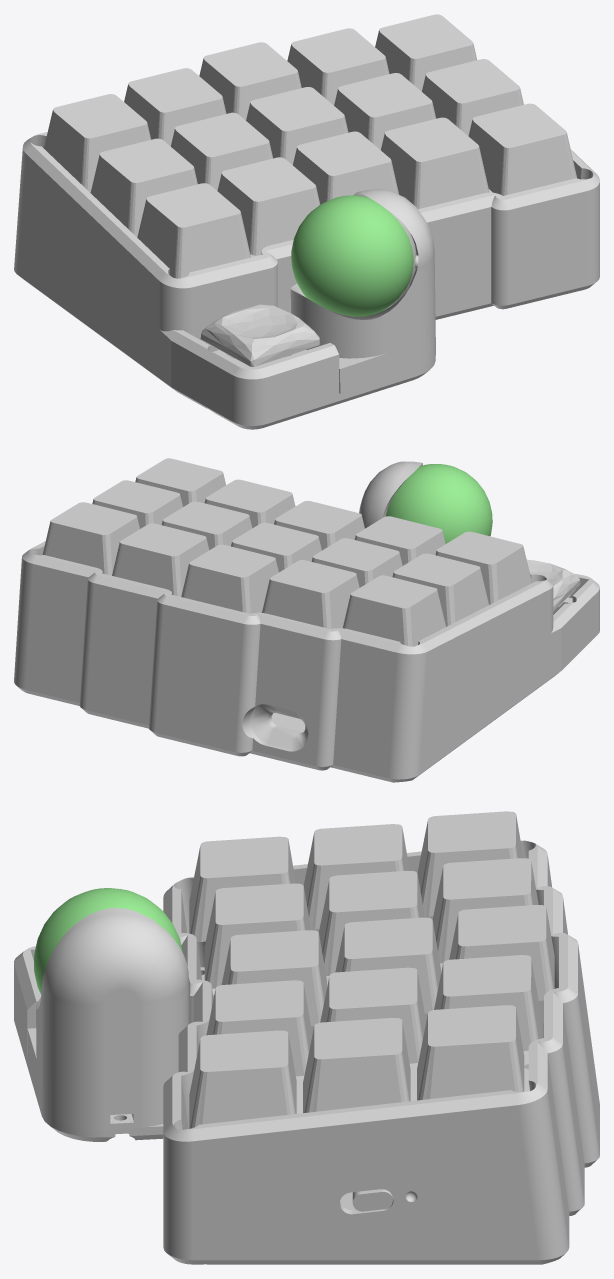
3 renders of one model, top to bottom at view 1: azimuth 30°, elevation 25°; view 2: azimuth 150°, elevation 25°; view 3: azimuth 270°, elevation 25°, orthographic. The views are drawn at different scales.
Visible parts, largest first — view 1: Fusion001, COMPOUND; view 2: Fusion001, COMPOUND; view 3: Fusion001, COMPOUND.
Boxes of the visible parts, x1,y1,x2,y2 form: Fusion001: [14, 14, 599, 429]; COMPOUND: [291, 195, 413, 316]; Fusion001: [14, 458, 599, 782]; COMPOUND: [385, 464, 492, 543]; Fusion001: [14, 811, 599, 1264]; COMPOUND: [34, 888, 182, 994].
Bounding box in the file's own units: 0.1026 × 0.0395 × 0.0974.
